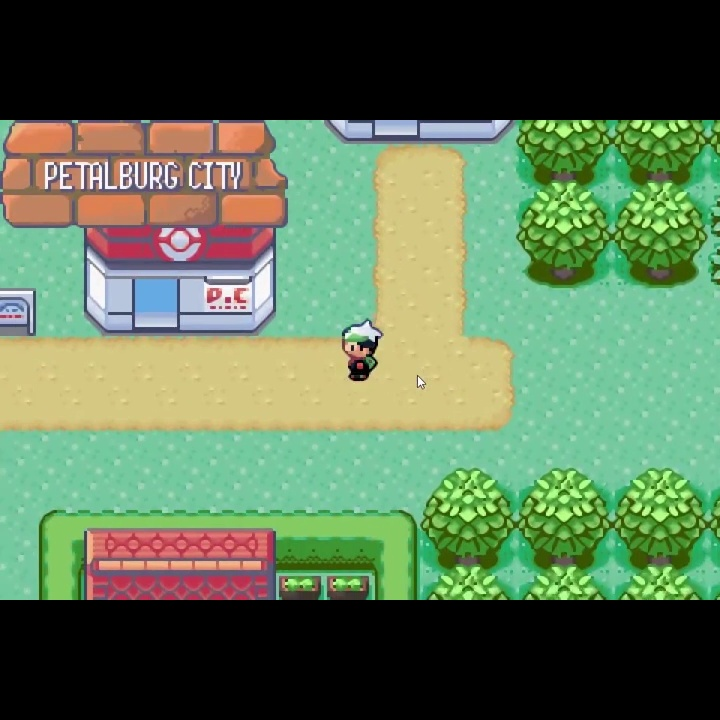npc: (338, 316, 385, 386)
pokecen: (81, 227, 278, 336)
wall: (613, 177, 709, 290), (515, 179, 612, 289), (417, 468, 517, 570), (612, 467, 707, 572), (517, 467, 612, 571), (611, 120, 709, 180), (515, 120, 611, 180), (418, 563, 518, 600), (519, 562, 613, 600), (614, 562, 708, 600)
